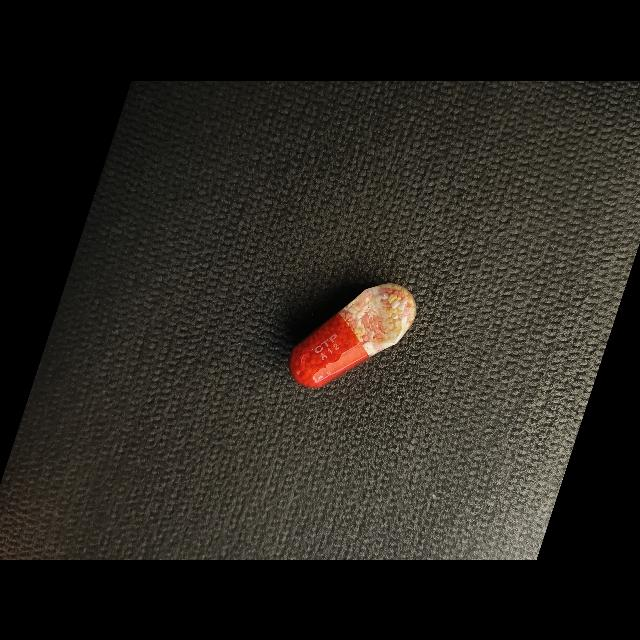Defective Capsule: (289, 283, 416, 388)
